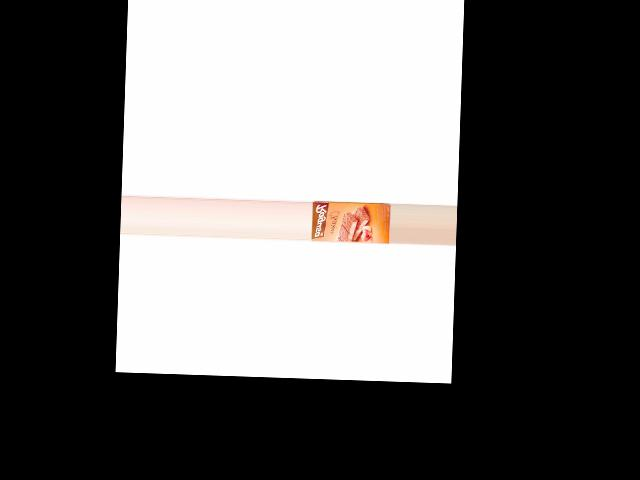chocolate: (312, 198, 391, 248)
